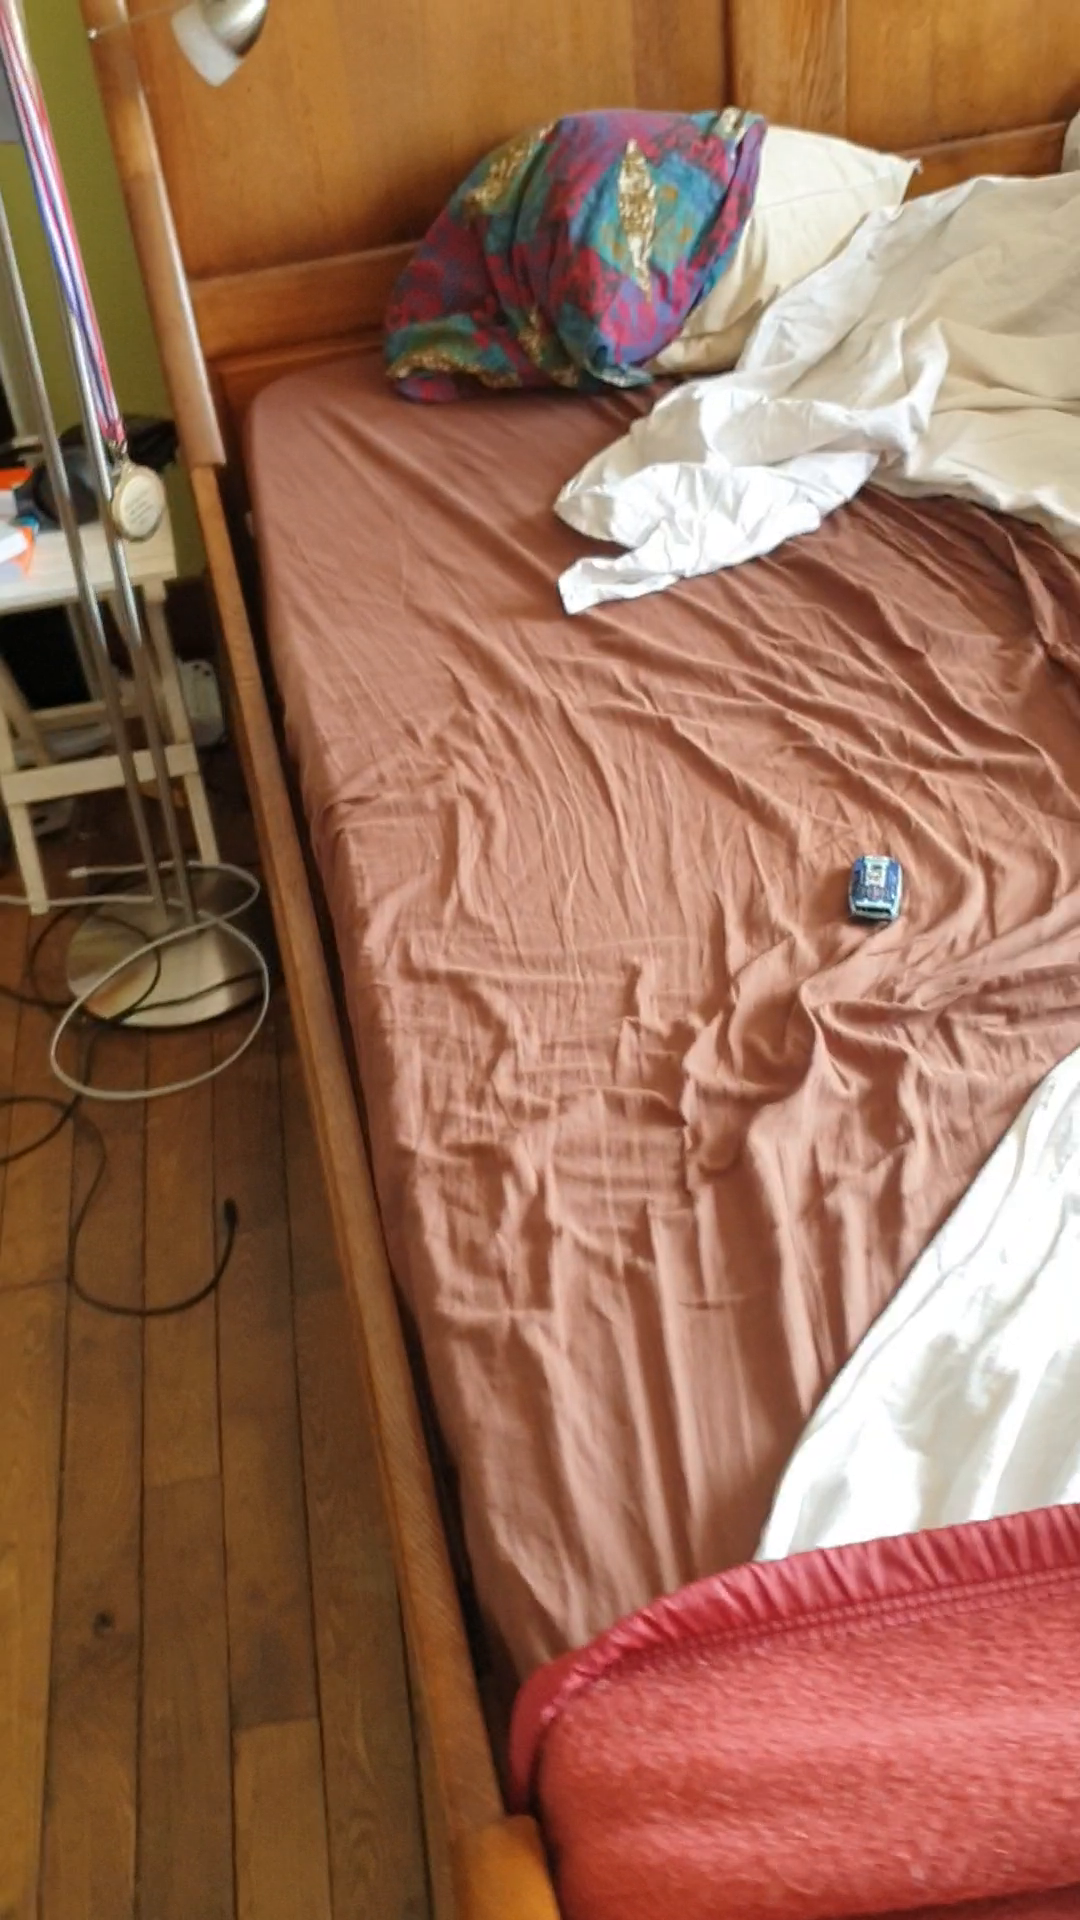cars: (849, 855, 905, 922)
